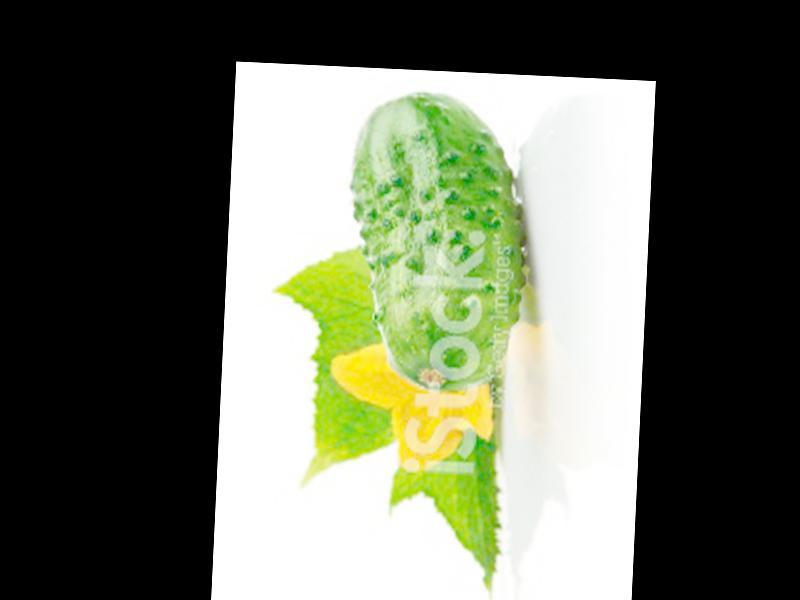Cucumber: (342, 88, 531, 390)
